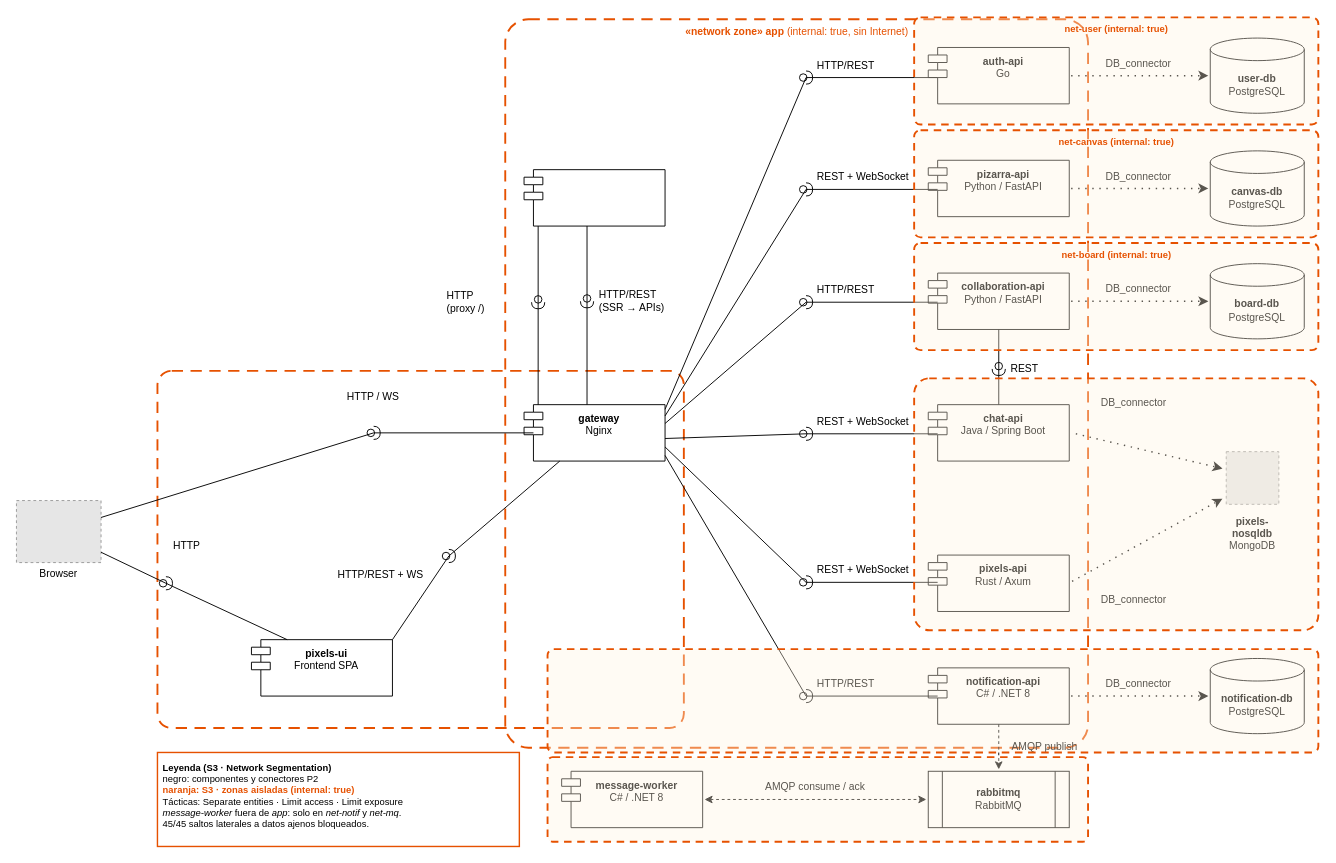
Image size: 1336x863. Some labels were removed from this diagram. Grey dashed boxes stand in for pictures. The box of each missing label's shape, as (x1, y1, x2, y2) in pixels:
net-mongo (internal: true) · riesgo residual ADR 0010: (913, 377, 1319, 631)
net-mq (internal: true · sin app): (546, 756, 1089, 842)
net-notif (internal: true): (546, 648, 1319, 753)
web-ssr Node.js / TypeScript: (523, 169, 665, 226)
«network zone» edge (puertos publicados: 8088, 8443, 3000): (156, 369, 684, 728)
